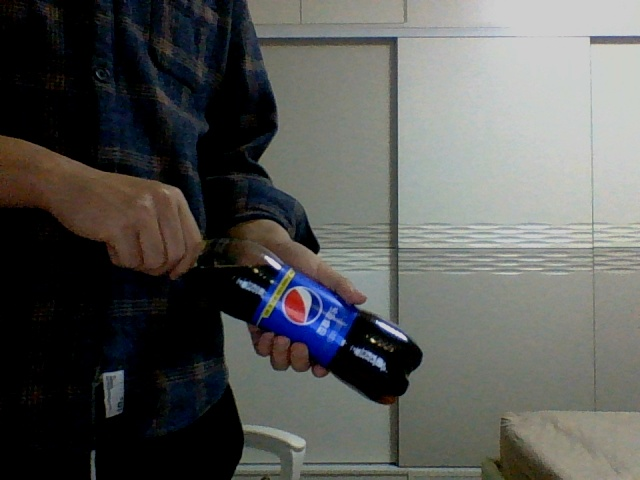Cola: (195, 238, 423, 404)
